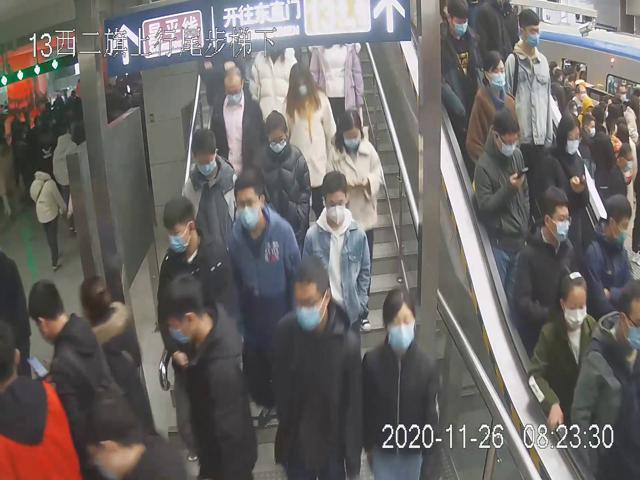person: (268, 257, 361, 480), (160, 270, 258, 480), (227, 165, 303, 428), (361, 284, 442, 480), (322, 104, 383, 336), (526, 270, 604, 429), (298, 169, 370, 328), (155, 195, 230, 341), (474, 110, 530, 304), (516, 183, 578, 346), (245, 106, 315, 244), (282, 58, 336, 216), (181, 127, 239, 265), (504, 7, 554, 155), (462, 48, 518, 175), (208, 65, 264, 175)
